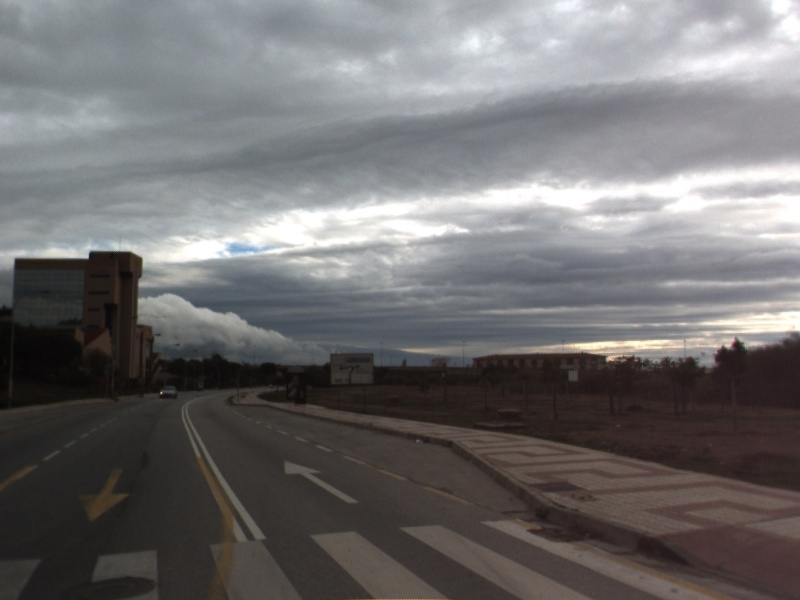STRAIGHT: (282, 458, 362, 505)
